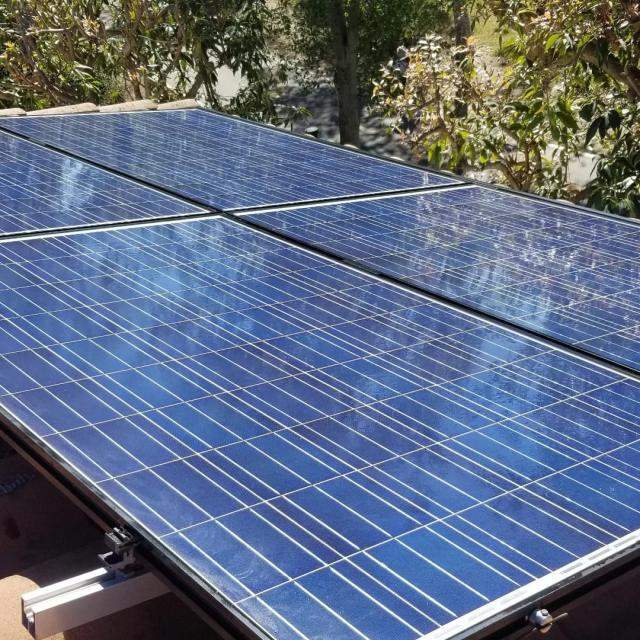clean-solar-panel: (0, 109, 640, 640)
